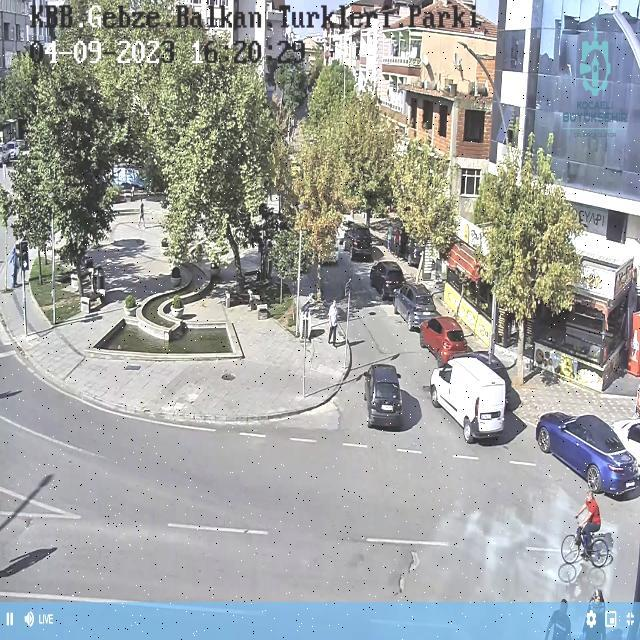car: (536, 412, 640, 494), (431, 356, 505, 442), (420, 316, 469, 366), (365, 365, 401, 426)
cyclist: (561, 490, 609, 568), (576, 490, 601, 551)
